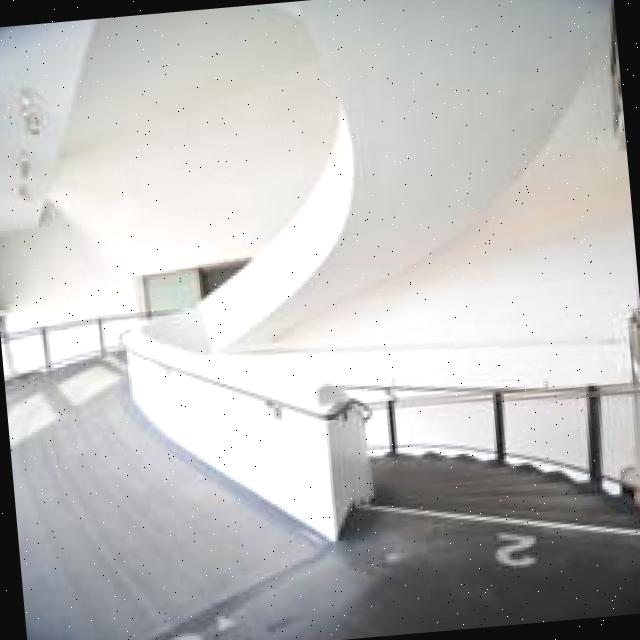stairs: (311, 359, 640, 621)
